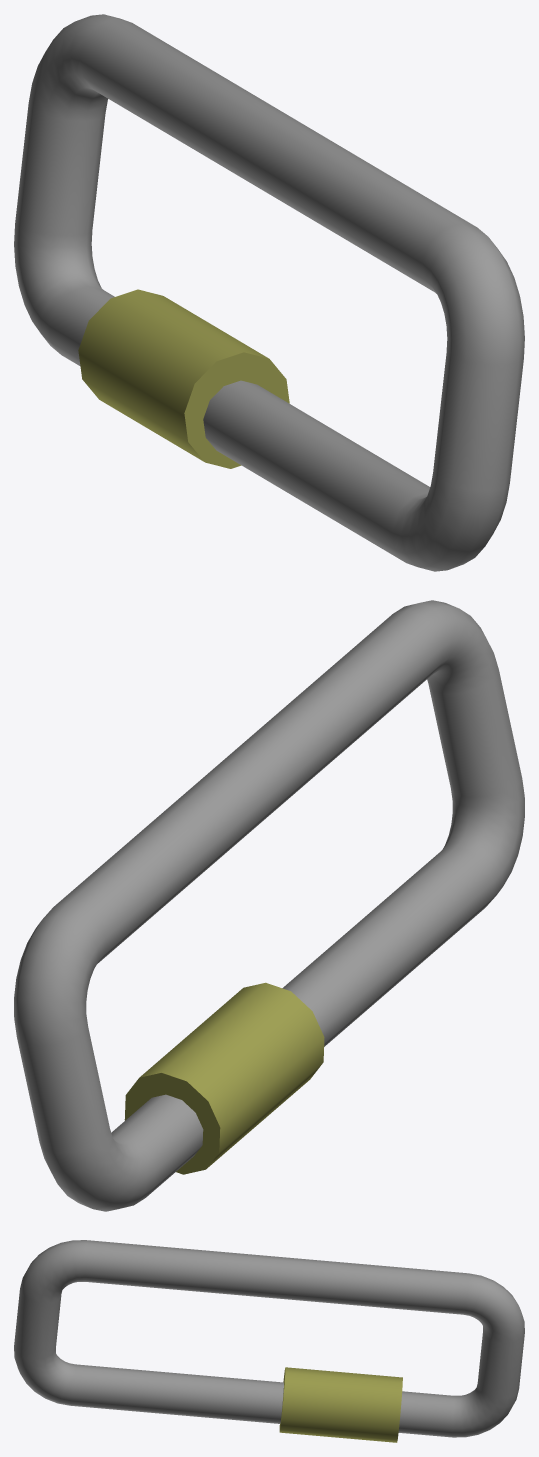
Rendered from SM_SM_Retractable fall.FBX.
3 views of the same model, one above another, from view 1: azimuth 30°, elevation 25°; view 2: azimuth 150°, elevation 25°; view 3: azimuth 270°, elevation 25° (orthographic). The views are drawn at different scales.
Visible parts, largest first — view 1: SM_SM_Retractable fall; view 2: SM_SM_Retractable fall; view 3: SM_SM_Retractable fall.
Boxes of the visible parts, bbox=[...] form: SM_SM_Retractable fall: bbox=[14, 14, 524, 571]; SM_SM_Retractable fall: bbox=[14, 600, 524, 1211]; SM_SM_Retractable fall: bbox=[14, 1240, 524, 1442].
Size of the model in its own units: 1.76 by 4.91 by 11.04.
